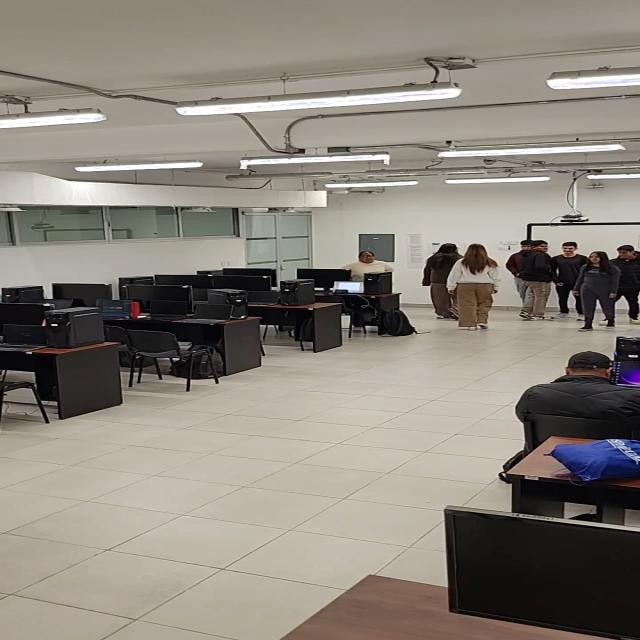Persona: (424, 238, 463, 316), (462, 242, 496, 327), (554, 238, 585, 319), (584, 250, 614, 329), (520, 242, 549, 321), (613, 244, 640, 324), (350, 244, 385, 270)
